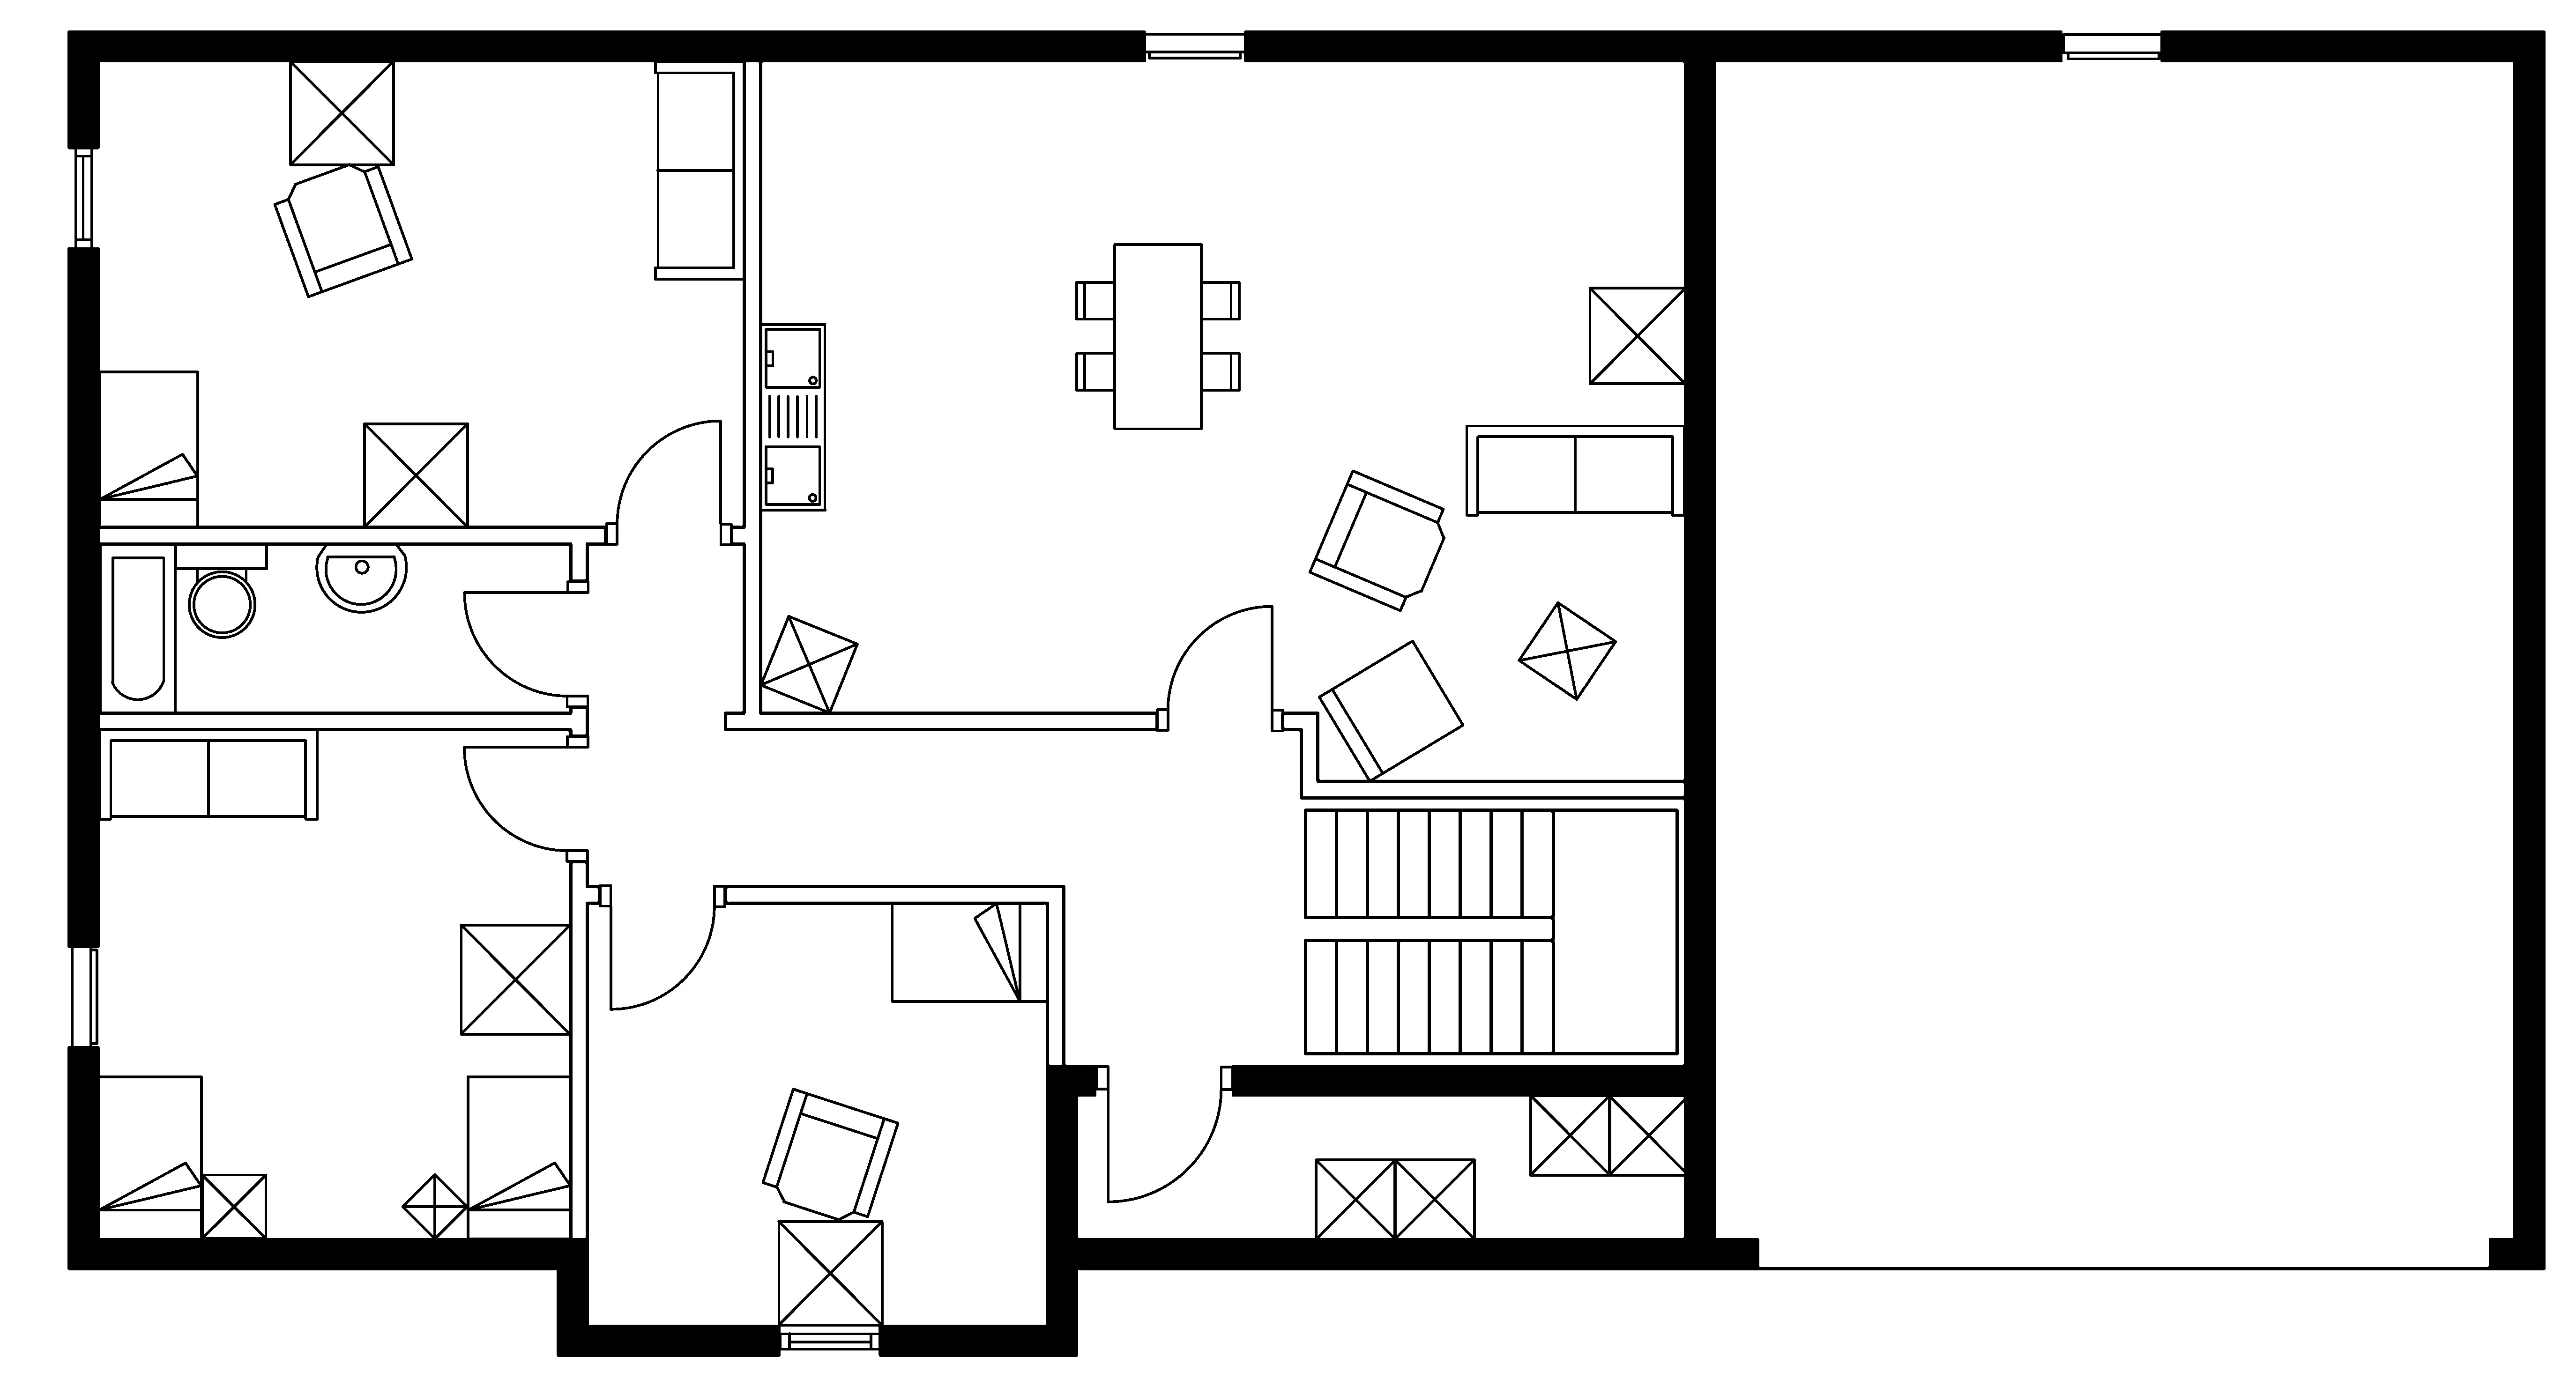armchair: (1307, 468, 1445, 612), (272, 162, 413, 299), (760, 1086, 900, 1221)
bed: (96, 1074, 203, 1240), (465, 1074, 572, 1240), (97, 369, 200, 530), (890, 900, 1049, 1003)
coffee_table: (458, 922, 572, 1035), (362, 422, 470, 530), (287, 58, 395, 166), (776, 1220, 883, 1327), (1517, 600, 1618, 702), (758, 613, 859, 714), (1587, 285, 1688, 386), (1527, 1093, 1613, 1177), (1314, 1156, 1397, 1240), (1392, 1156, 1476, 1240), (1607, 1093, 1691, 1177), (400, 1172, 470, 1240), (200, 1172, 268, 1240)
dining_table: (1074, 243, 1242, 430)
large_sink: (173, 541, 268, 639)
large_sofa: (653, 60, 746, 282), (1464, 424, 1686, 516), (97, 728, 319, 820)
small_sink: (316, 541, 407, 613)
small_sofa: (1317, 639, 1464, 782)
tub: (97, 541, 178, 714)
twin_sink: (758, 321, 827, 512)
